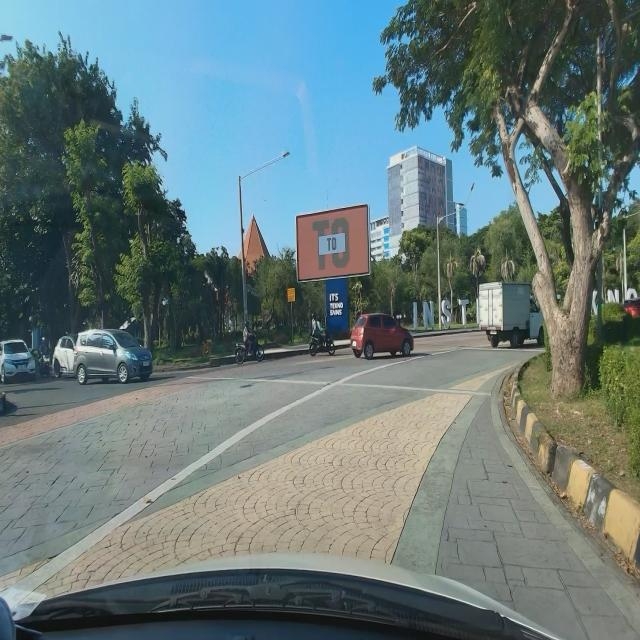license-plate: (490, 331, 497, 335)
truck: (478, 281, 546, 348)
